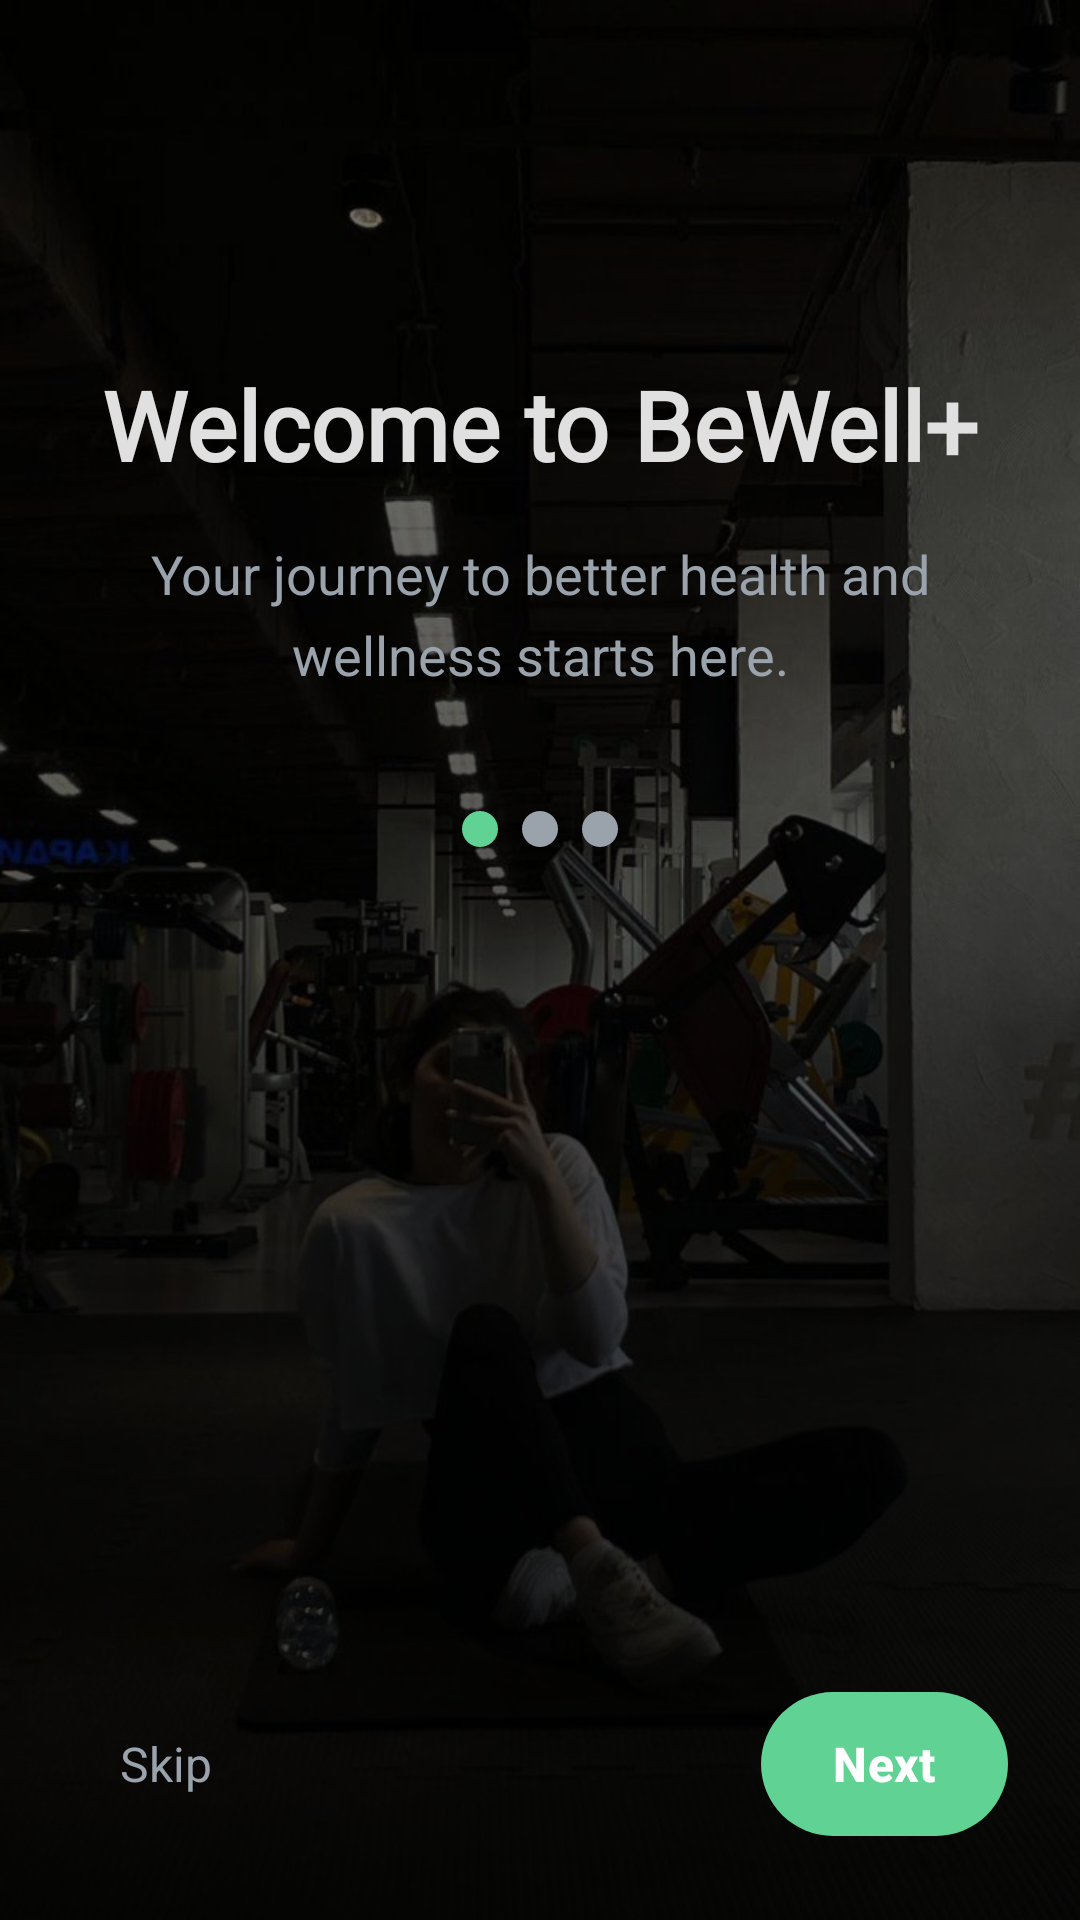

Point at icon controls on the screen. Image size 1080 x 1920, points as (x=x, y=y).
page indicator: (x=480, y=829), (x=540, y=829), (x=600, y=829)
